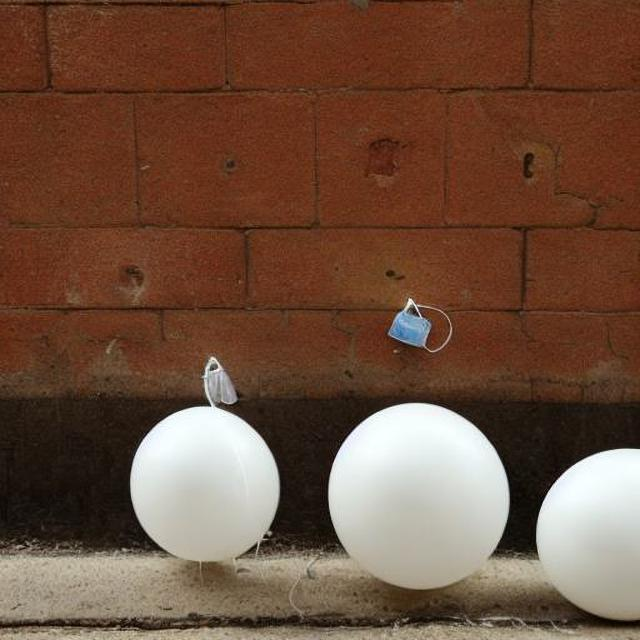balloon: (318, 385, 514, 597), (128, 410, 278, 555), (535, 439, 640, 620)
